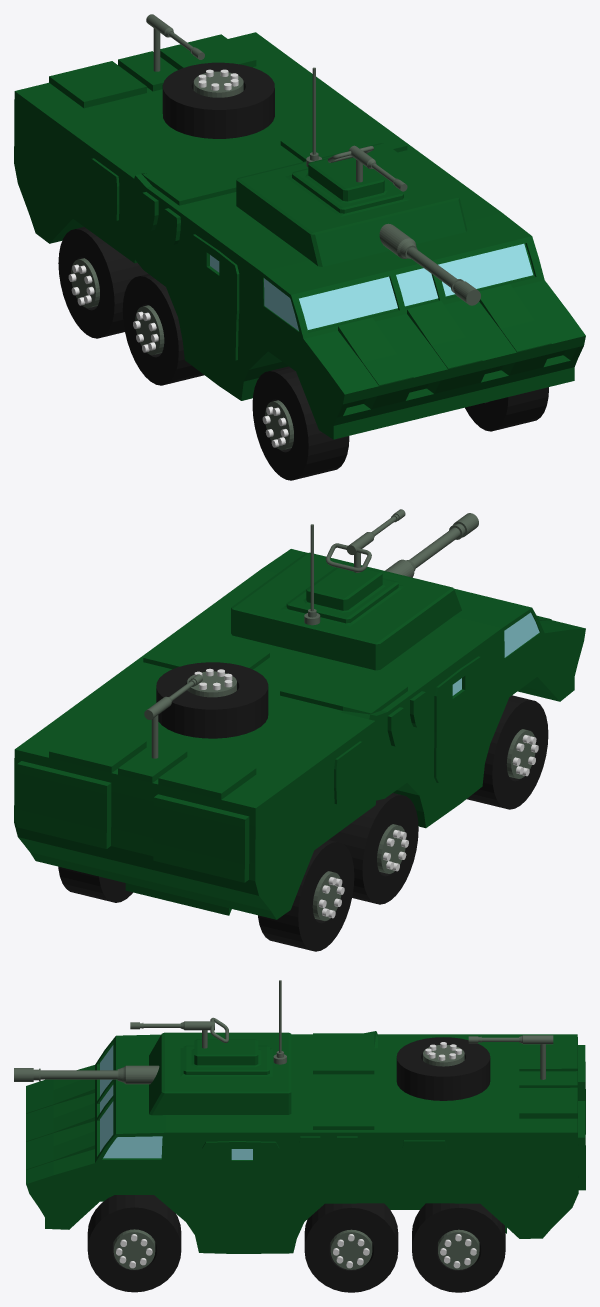
The model's file is mechinf.fbx.
The picture shows the model from 3 angles, top to bottom: view 1: azimuth 30°, elevation 25°; view 2: azimuth 150°, elevation 25°; view 3: azimuth 270°, elevation 25°; orthographic projection. The views are drawn at different scales.
Visible parts, largest first — view 1: Cube, Cube.001, Plane, tire, Circle.005, Circle.003, Circle.004, Circle, Cylinder, Plane.001, wheel disk, Cylinder.039 (+3 smaller); view 2: Cube, Cube.001, tire, Circle.004, Circle.003, Circle.005, Circle.002, Cylinder, Plane.001, Cylinder.040, Cylinder.039, Cylinder.057 (+4 smaller); view 3: Cube, Cube.001, Circle, Circle.001, Circle.002, tire, Cylinder, Plane.002, Cylinder.004, Cylinder.022, Cylinder.021, Plane (+3 smaller).
Boxes of the visible parts, <box> form: Cube: <box>14,32,585,439</box>; Cube.001: <box>236,143,467,266</box>; Plane: <box>299,243,532,329</box>; tire: <box>162,62,274,138</box>; Circle.005: <box>252,366,349,480</box>; Circle.003: <box>58,227,147,338</box>; Circle.004: <box>122,274,204,385</box>; Circle: <box>465,387,548,431</box>; Cylinder: <box>379,223,480,305</box>; Plane.001: <box>264,278,298,330</box>; wheel disk: <box>193,71,243,97</box>; Cylinder.039: <box>71,258,99,308</box>; Cube: <box>14,549,585,919</box>; Cube.001: <box>231,552,461,670</box>; tire: <box>156,662,268,738</box>; Circle.004: <box>329,793,418,904</box>; Circle.003: <box>258,840,354,951</box>; Circle.005: <box>466,695,548,809</box>; Circle.002: <box>58,866,132,902</box>; Cylinder: <box>385,513,478,577</box>; Plane.001: <box>504,612,539,657</box>; Cylinder.040: <box>377,824,406,873</box>; Cylinder.039: <box>312,871,341,920</box>; Cylinder.057: <box>506,729,535,778</box>; Cube: <box>26,1031,585,1253</box>; Cube.001: <box>149,1032,291,1115</box>; Circle: <box>87,1195,181,1292</box>; Circle.001: <box>304,1203,398,1292</box>; Circle.002: <box>412,1203,505,1292</box>; tire: <box>396,1037,490,1100</box>; Cylinder: <box>14,1065,159,1084</box>; Plane.002: <box>103,1136,162,1158</box>; Cylinder.004: <box>113,1229,155,1269</box>; Cylinder.022: <box>438,1229,479,1269</box>; Cylinder.021: <box>330,1229,372,1269</box>; Plane: <box>100,1045,113,1151</box>.
Size of the model in its own units: 124 by 147 by 288.
